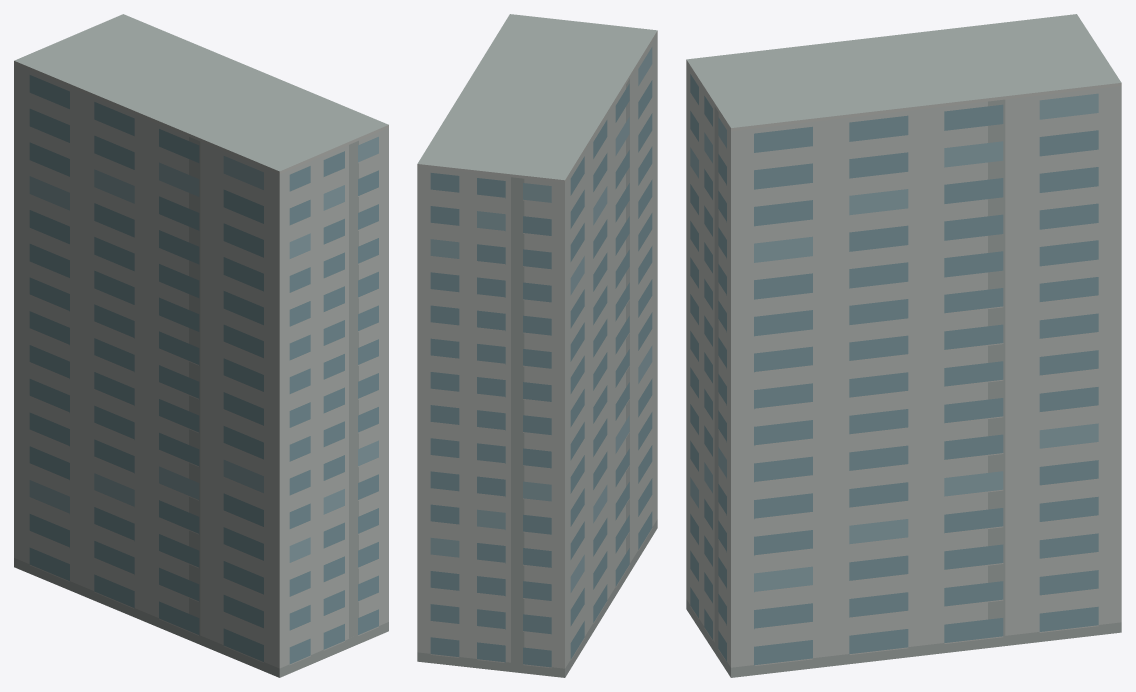
The model's file is residential-6f288ea7-79a5-48c7-b47c-a1239f5917c6.glb.
3 renders of one model, left to right at view 1: azimuth 30°, elevation 25°; view 2: azimuth 150°, elevation 25°; view 3: azimuth 270°, elevation 25°, orthographic. The views are drawn at different scales.
Parts seen in each view (by area): view 1: residential-6f288ea7-79a5-48c7-b47c-a1239f5917c6.tmp; view 2: residential-6f288ea7-79a5-48c7-b47c-a1239f5917c6.tmp; view 3: residential-6f288ea7-79a5-48c7-b47c-a1239f5917c6.tmp.
Boxes of the visible parts, box(x1,y1,x2,y2) form: residential-6f288ea7-79a5-48c7-b47c-a1239f5917c6.tmp: box(14, 14, 388, 677); residential-6f288ea7-79a5-48c7-b47c-a1239f5917c6.tmp: box(417, 14, 657, 677); residential-6f288ea7-79a5-48c7-b47c-a1239f5917c6.tmp: box(686, 14, 1121, 677).
Size of the model in its own units: 18.26 by 41 by 29.42.
